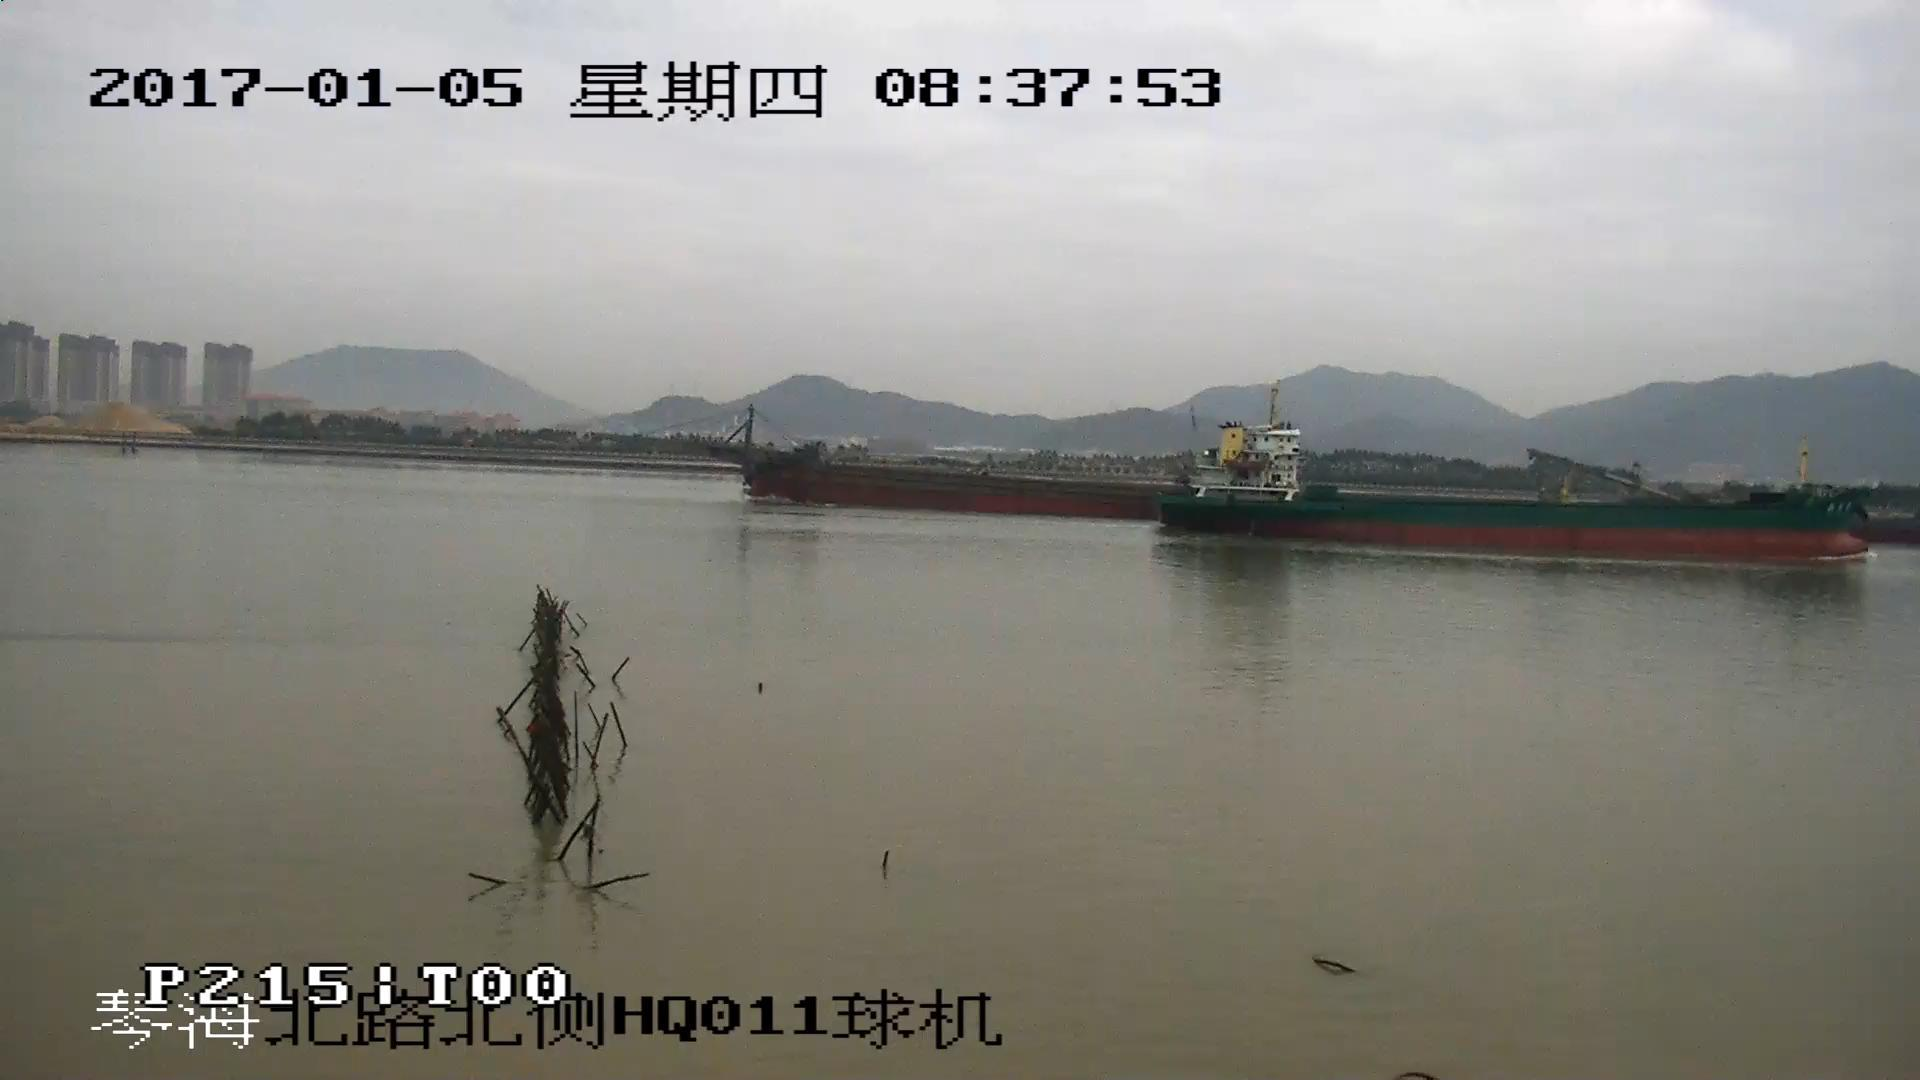Ship: (1156, 400, 1869, 564), (703, 413, 1156, 521)
